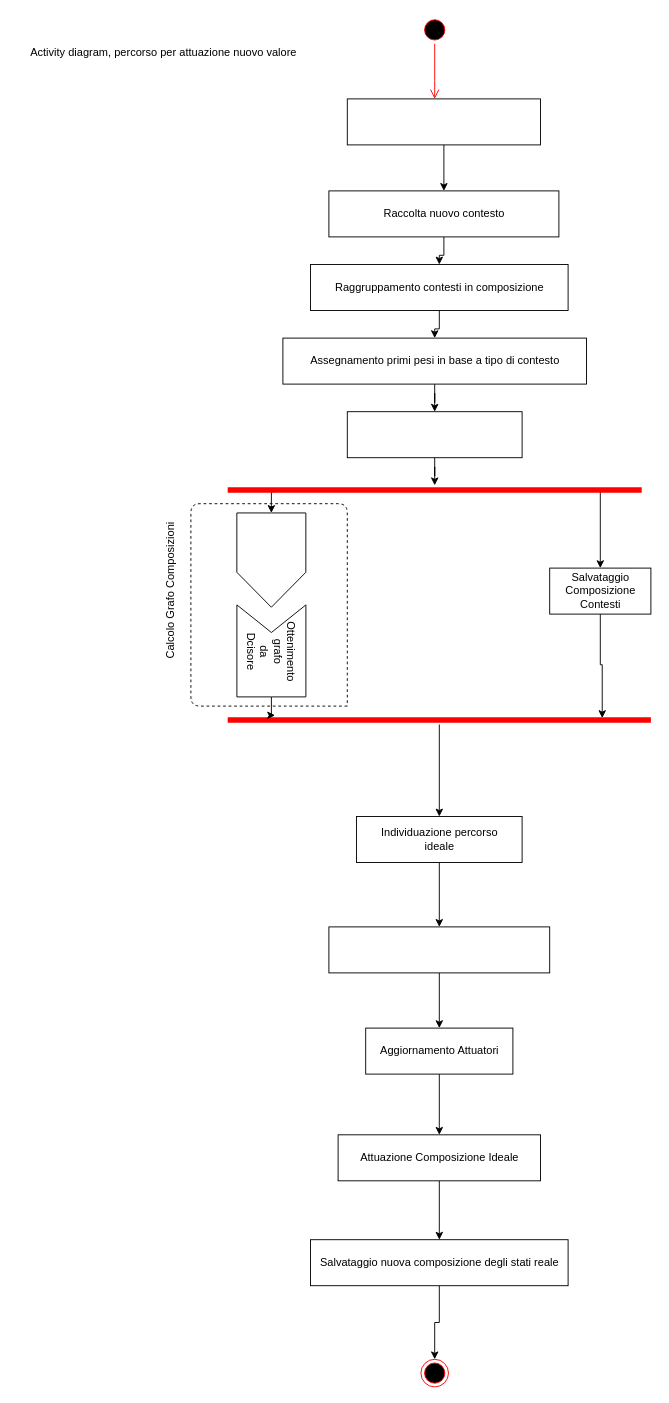
Image size: 669x1403. Some labels were removed from this diagram. Each missing label, with the centre of its shape:
"Creazione Composizione ideale" belongs at point 439,949.
"Invio composizioni a decisore" belongs at point 271,559.
"Nuovo valore misurato da sensore" belongs at point 443,121.
"Update contesti su Controller" belongs at point 434,434.
